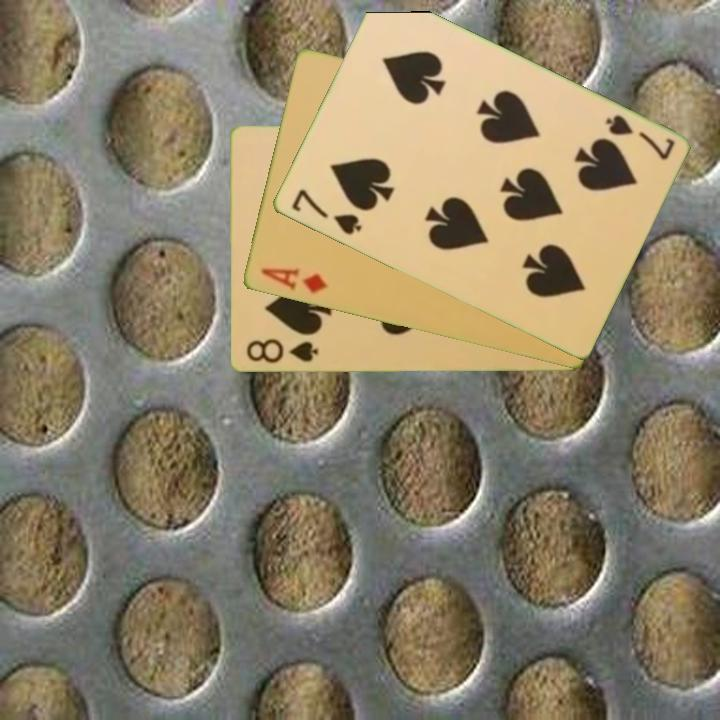7s: (287, 185, 364, 238), (601, 111, 678, 163)
8s: (243, 336, 321, 367)
Ad: (257, 265, 330, 297)
